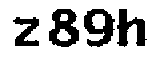8: (45, 7, 79, 53)
9: (82, 10, 113, 49)
h: (118, 8, 146, 51)
z: (8, 15, 40, 51)
